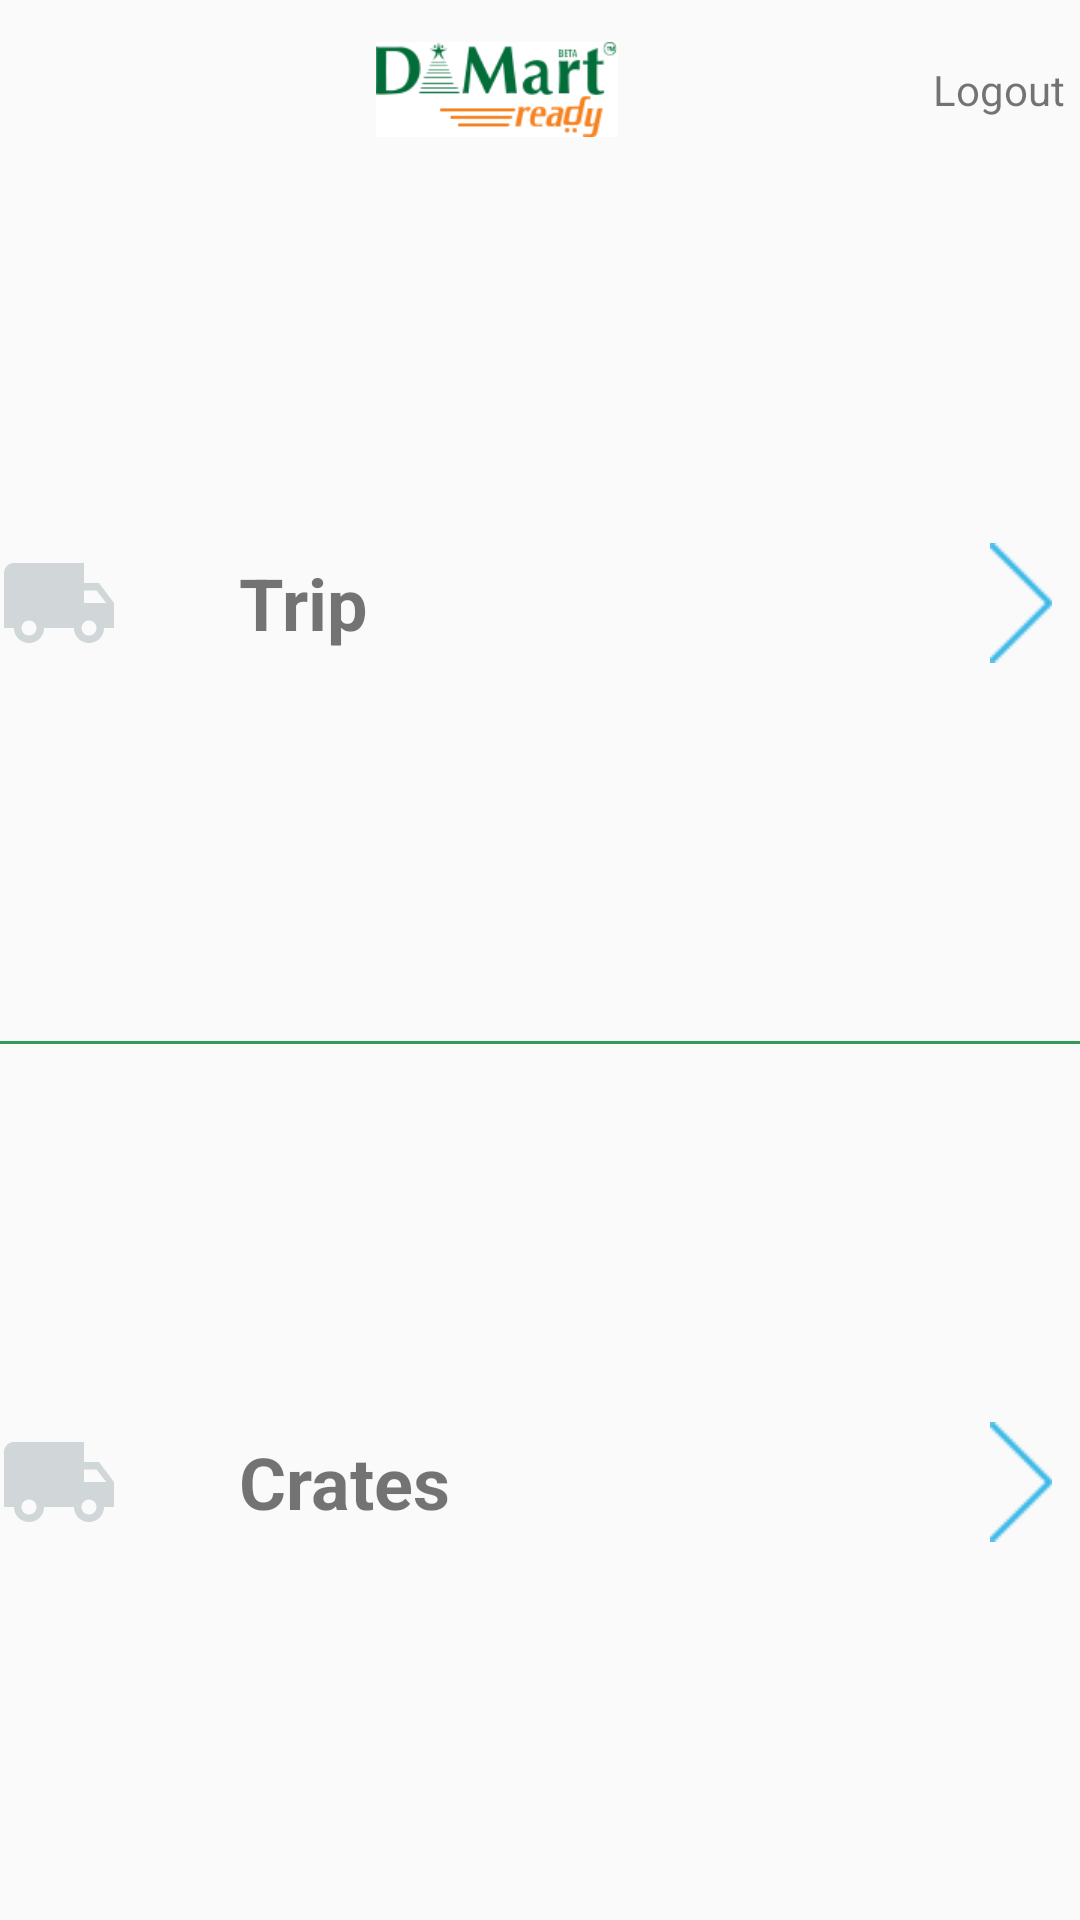

Named icons in this screenshot (1080*1920) and their centers, (x=x, y=y):
arrow: (x=1021, y=603), (x=1021, y=1482)
truck: (x=59, y=603), (x=59, y=1482)
